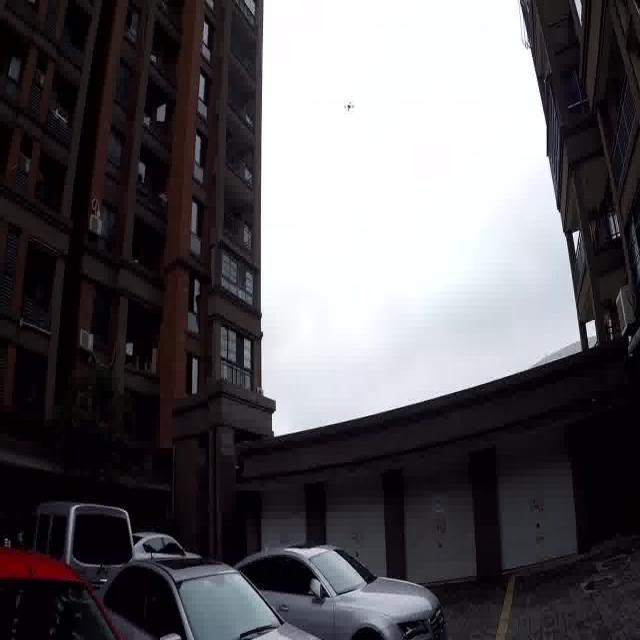drones: (339, 92, 358, 120)
